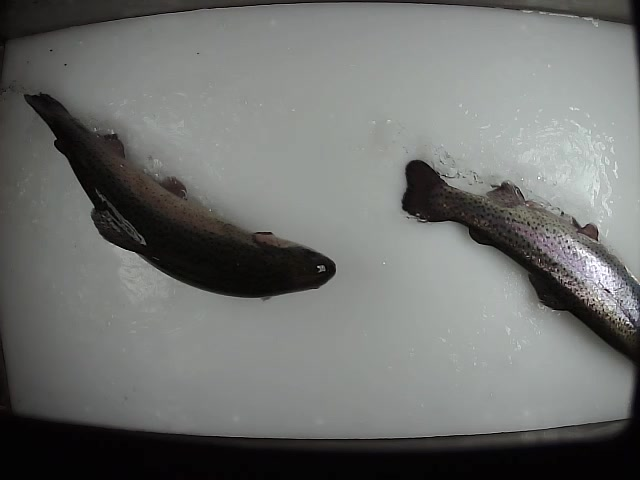Fish: (23, 92, 335, 300)
